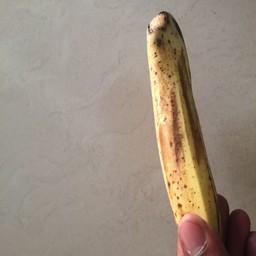Banana Ripe: (130, 11, 239, 229)
